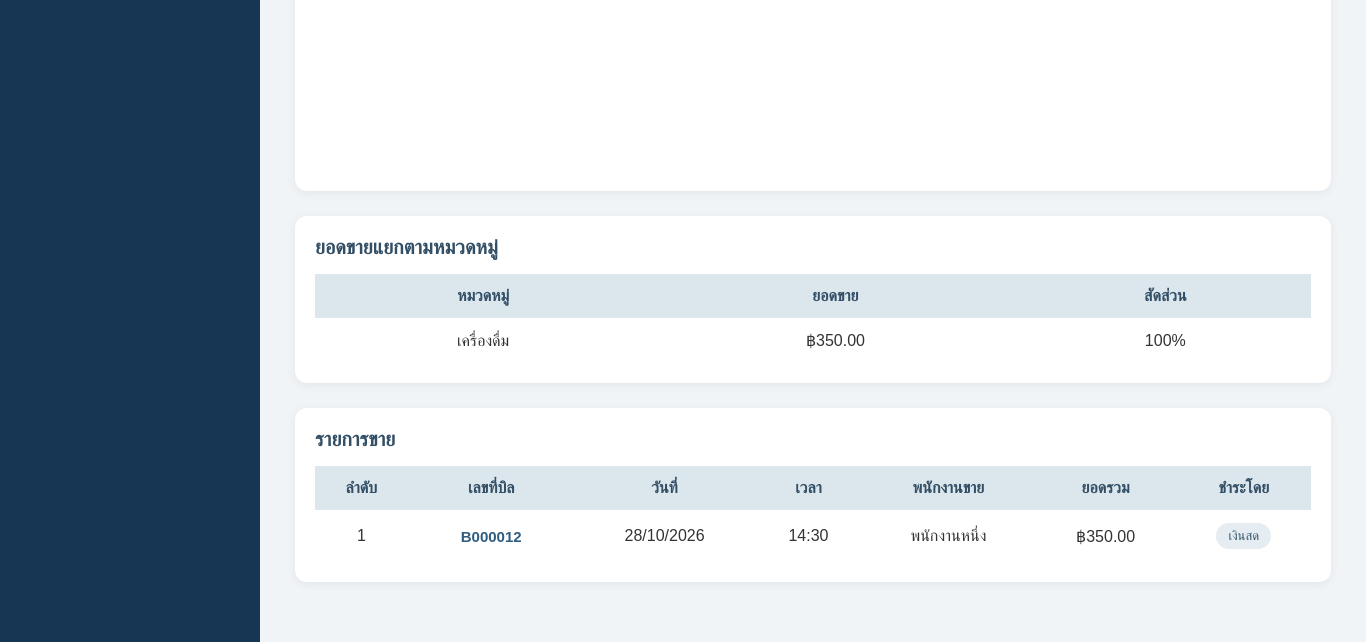
Scenario: Report page › เปิดรายละเอียดใบเสร็จและปิดหน้าต่างได้
(page scrolled)
Expected: the text "เครื่องดื่ม" is shown, [315,318,651,363]
Click the button "B000012" at (491, 536), box [455,526,528,546]
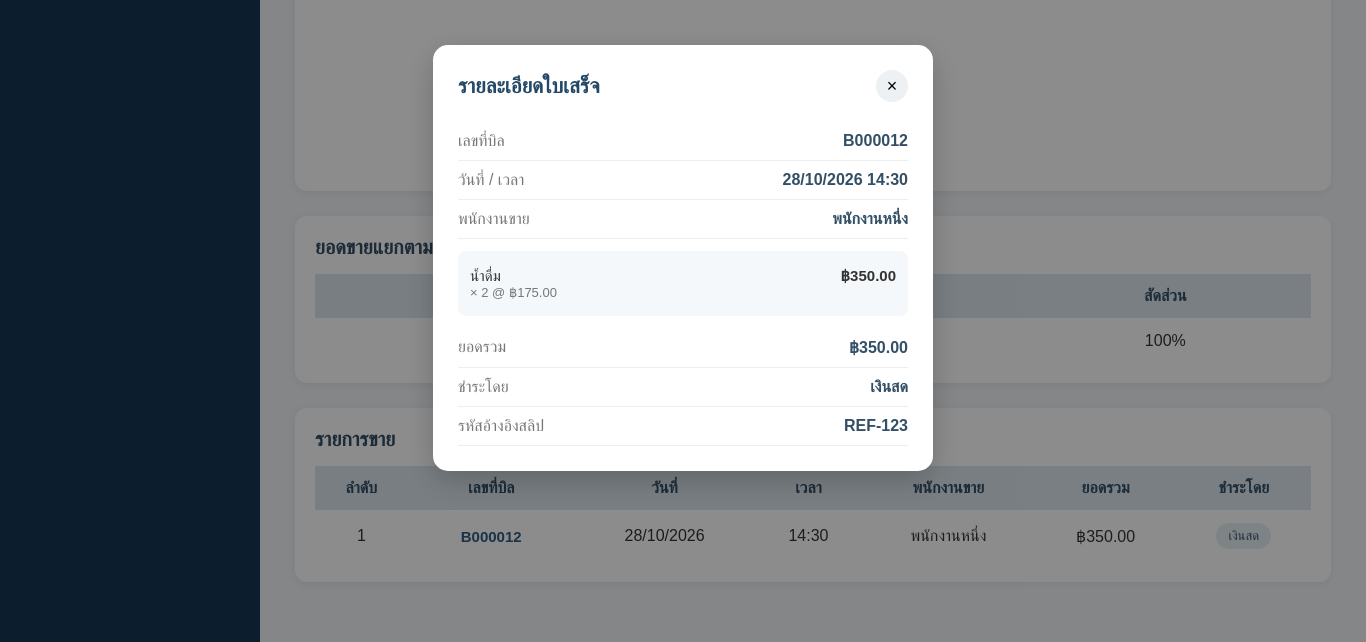
Result: the text "น้ำดื่ม" is shown at [470,267,501,284]
Result: the text "REF-123" is shown at [844,417,908,435]
Click the button named "ปิด" at (892, 86), box [876,70,908,102]
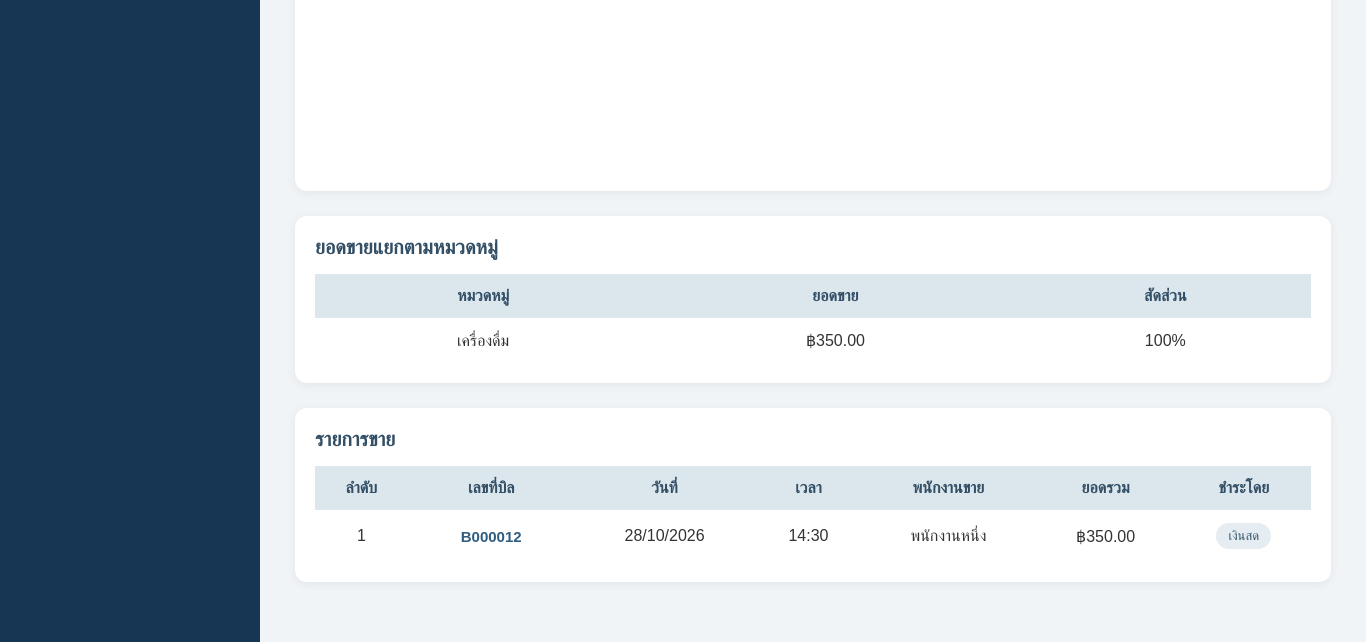
Result: the dialog is gone
